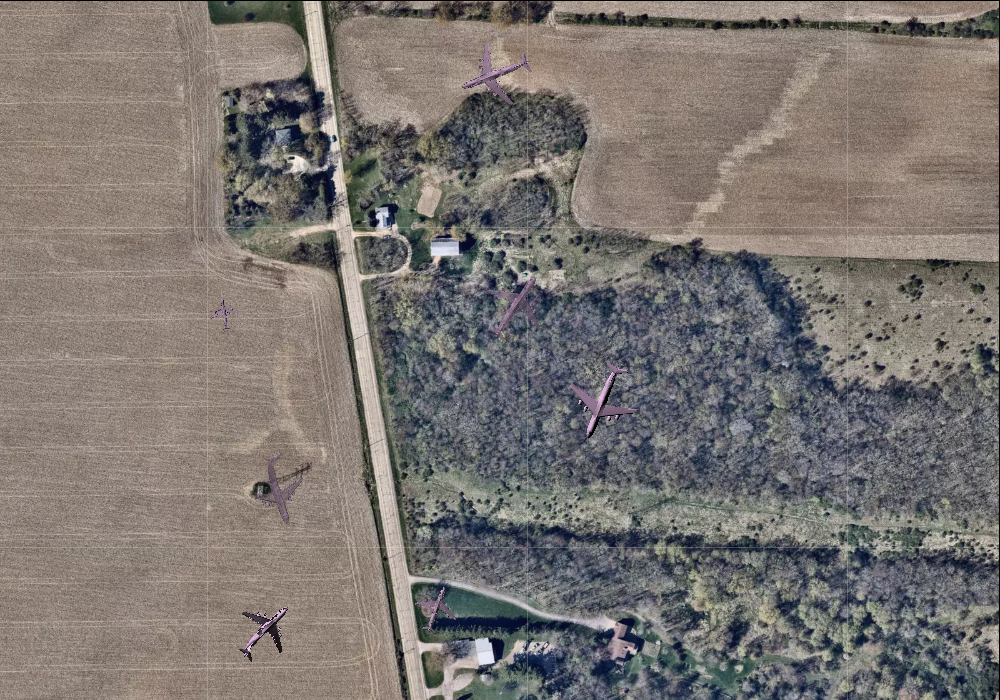plane: (553, 350, 652, 452), (466, 258, 563, 356), (219, 586, 310, 677), (450, 29, 541, 118), (236, 445, 321, 533), (406, 579, 466, 640), (206, 296, 241, 332)
